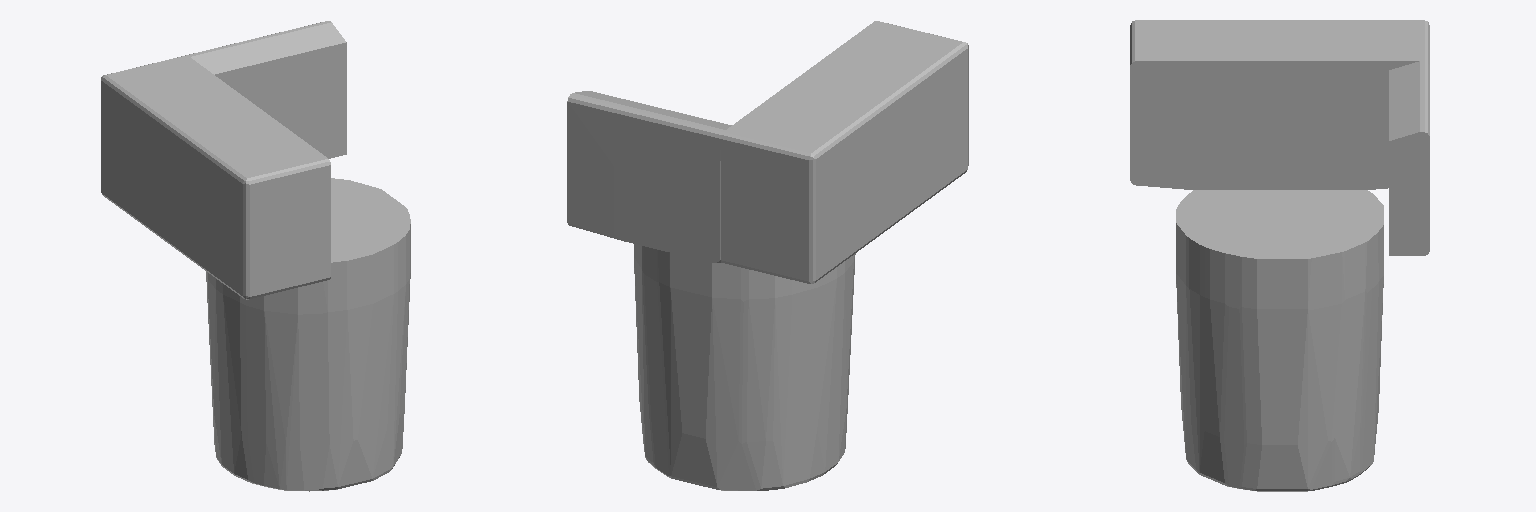
URDF robot description (root):
<robot name="root">
  <link name="link_coacd_convex_piece_0">
    <inertial>
      <origin xyz="0 0 0" rpy="0 0 0"/>
      <inertia ixx="1.04E-02" ixy="-8.09E-04" ixz="-8.68E-03" iyy="1.67E-02" iyz="-2.22E-03" izz="1.31E-02"/>
    </inertial>
    <visual>
      <origin xyz="0 0 0" rpy="0 0 0"/>
      <geometry>
        <mesh filename="coacd_convex_piece_0.obj" scale="1.0000E+00 1.0000E+00 1.0000E+00"/>
      </geometry>
      <material name="">
        <color rgba="7.50E-01 7.50E-01 7.50E-01 1"/>
      </material>
    </visual>
    <collision>
      <origin xyz="0 0 0" rpy="0 0 0"/>
      <geometry>
        <mesh filename="coacd_convex_piece_0.obj" scale="1.0000E+00 1.0000E+00 1.0000E+00"/>
      </geometry>
    </collision>
  </link>
  <link name="link_coacd_convex_piece_1">
    <inertial>
      <origin xyz="0 0 0" rpy="0 0 0"/>
      <inertia ixx="2.92E-02" ixy="2.69E-03" ixz="-2.54E-02" iyy="4.54E-02" iyz="1.48E-03" izz="3.73E-02"/>
    </inertial>
    <visual>
      <origin xyz="0 0 0" rpy="0 0 0"/>
      <geometry>
        <mesh filename="coacd_convex_piece_1.obj" scale="1.0000E+00 1.0000E+00 1.0000E+00"/>
      </geometry>
      <material name="">
        <color rgba="7.50E-01 7.50E-01 7.50E-01 1"/>
      </material>
    </visual>
    <collision>
      <origin xyz="0 0 0" rpy="0 0 0"/>
      <geometry>
        <mesh filename="coacd_convex_piece_1.obj" scale="1.0000E+00 1.0000E+00 1.0000E+00"/>
      </geometry>
    </collision>
  </link>
  <joint name="link_coacd_convex_piece_1_joint" type="fixed">
    <origin xyz="0 0 0" rpy="0 0 0"/>
    <parent link="link_coacd_convex_piece_0"/>
    <child link="link_coacd_convex_piece_1"/>
  </joint>
  <link name="link_coacd_convex_piece_2">
    <inertial>
      <origin xyz="0 0 0" rpy="0 0 0"/>
      <inertia ixx="1.40E-02" ixy="-1.34E-03" ixz="1.48E-02" iyy="3.11E-02" iyz="5.49E-04" izz="2.67E-02"/>
    </inertial>
    <visual>
      <origin xyz="0 0 0" rpy="0 0 0"/>
      <geometry>
        <mesh filename="coacd_convex_piece_2.obj" scale="1.0000E+00 1.0000E+00 1.0000E+00"/>
      </geometry>
      <material name="">
        <color rgba="7.50E-01 7.50E-01 7.50E-01 1"/>
      </material>
    </visual>
    <collision>
      <origin xyz="0 0 0" rpy="0 0 0"/>
      <geometry>
        <mesh filename="coacd_convex_piece_2.obj" scale="1.0000E+00 1.0000E+00 1.0000E+00"/>
      </geometry>
    </collision>
  </link>
  <joint name="link_coacd_convex_piece_2_joint" type="fixed">
    <origin xyz="0 0 0" rpy="0 0 0"/>
    <parent link="link_coacd_convex_piece_1"/>
    <child link="link_coacd_convex_piece_2"/>
  </joint>
  <link name="link_coacd_convex_piece_3">
    <inertial>
      <origin xyz="0 0 0" rpy="0 0 0"/>
      <inertia ixx="1.05E-02" ixy="-1.90E-03" ixz="1.53E-03" iyy="6.08E-03" iyz="5.49E-03" izz="7.13E-03"/>
    </inertial>
    <visual>
      <origin xyz="0 0 0" rpy="0 0 0"/>
      <geometry>
        <mesh filename="coacd_convex_piece_3.obj" scale="1.0000E+00 1.0000E+00 1.0000E+00"/>
      </geometry>
      <material name="">
        <color rgba="7.50E-01 7.50E-01 7.50E-01 1"/>
      </material>
    </visual>
    <collision>
      <origin xyz="0 0 0" rpy="0 0 0"/>
      <geometry>
        <mesh filename="coacd_convex_piece_3.obj" scale="1.0000E+00 1.0000E+00 1.0000E+00"/>
      </geometry>
    </collision>
  </link>
  <joint name="link_coacd_convex_piece_3_joint" type="fixed">
    <origin xyz="0 0 0" rpy="0 0 0"/>
    <parent link="link_coacd_convex_piece_2"/>
    <child link="link_coacd_convex_piece_3"/>
  </joint>
  <link name="link_coacd_convex_piece_4">
    <inertial>
      <origin xyz="0 0 0" rpy="0 0 0"/>
      <inertia ixx="8.67E-03" ixy="4.32E-04" ixz="2.64E-03" iyy="9.69E-03" iyz="-1.23E-03" izz="3.87E-03"/>
    </inertial>
    <visual>
      <origin xyz="0 0 0" rpy="0 0 0"/>
      <geometry>
        <mesh filename="coacd_convex_piece_4.obj" scale="1.0000E+00 1.0000E+00 1.0000E+00"/>
      </geometry>
      <material name="">
        <color rgba="7.50E-01 7.50E-01 7.50E-01 1"/>
      </material>
    </visual>
    <collision>
      <origin xyz="0 0 0" rpy="0 0 0"/>
      <geometry>
        <mesh filename="coacd_convex_piece_4.obj" scale="1.0000E+00 1.0000E+00 1.0000E+00"/>
      </geometry>
    </collision>
  </link>
  <joint name="link_coacd_convex_piece_4_joint" type="fixed">
    <origin xyz="0 0 0" rpy="0 0 0"/>
    <parent link="link_coacd_convex_piece_3"/>
    <child link="link_coacd_convex_piece_4"/>
  </joint>
  <link name="link_coacd_convex_piece_5">
    <inertial>
      <origin xyz="0 0 0" rpy="0 0 0"/>
      <inertia ixx="8.77E-04" ixy="3.72E-04" ixz="1.71E-04" iyy="3.20E-04" iyz="-4.88E-04" izz="9.43E-04"/>
    </inertial>
    <visual>
      <origin xyz="0 0 0" rpy="0 0 0"/>
      <geometry>
        <mesh filename="coacd_convex_piece_5.obj" scale="1.0000E+00 1.0000E+00 1.0000E+00"/>
      </geometry>
      <material name="">
        <color rgba="7.50E-01 7.50E-01 7.50E-01 1"/>
      </material>
    </visual>
    <collision>
      <origin xyz="0 0 0" rpy="0 0 0"/>
      <geometry>
        <mesh filename="coacd_convex_piece_5.obj" scale="1.0000E+00 1.0000E+00 1.0000E+00"/>
      </geometry>
    </collision>
  </link>
  <joint name="link_coacd_convex_piece_5_joint" type="fixed">
    <origin xyz="0 0 0" rpy="0 0 0"/>
    <parent link="link_coacd_convex_piece_4"/>
    <child link="link_coacd_convex_piece_5"/>
  </joint>
  <link name="link_coacd_convex_piece_6">
    <inertial>
      <origin xyz="0 0 0" rpy="0 0 0"/>
      <inertia ixx="3.86E-03" ixy="8.27E-04" ixz="6.67E-04" iyy="2.52E-03" iyz="-2.30E-03" izz="2.50E-03"/>
    </inertial>
    <visual>
      <origin xyz="0 0 0" rpy="0 0 0"/>
      <geometry>
        <mesh filename="coacd_convex_piece_6.obj" scale="1.0000E+00 1.0000E+00 1.0000E+00"/>
      </geometry>
      <material name="">
        <color rgba="7.50E-01 7.50E-01 7.50E-01 1"/>
      </material>
    </visual>
    <collision>
      <origin xyz="0 0 0" rpy="0 0 0"/>
      <geometry>
        <mesh filename="coacd_convex_piece_6.obj" scale="1.0000E+00 1.0000E+00 1.0000E+00"/>
      </geometry>
    </collision>
  </link>
  <joint name="link_coacd_convex_piece_6_joint" type="fixed">
    <origin xyz="0 0 0" rpy="0 0 0"/>
    <parent link="link_coacd_convex_piece_5"/>
    <child link="link_coacd_convex_piece_6"/>
  </joint>
</robot>

--- What the picture shows (computed from the rendered views, not written in the file) ---
3 views of the same robot in one strip: view 1: azimuth 30°, elevation 25°; view 2: azimuth 150°, elevation 25°; view 3: azimuth 270°, elevation 25° (orthographic).
Model root with 7 links and 6 joints (6 fixed), rooted at link_coacd_convex_piece_0, posed all joints at 0.
Visible links, largest first — view 1: link_coacd_convex_piece_0, link_coacd_convex_piece_2, link_coacd_convex_piece_6; view 2: link_coacd_convex_piece_2, link_coacd_convex_piece_0, link_coacd_convex_piece_6; view 3: link_coacd_convex_piece_0, link_coacd_convex_piece_2, link_coacd_convex_piece_6.
Link boxes in pixels (<box>): link_coacd_convex_piece_0: <box>206,178,410,491</box>; link_coacd_convex_piece_2: <box>101,55,330,299</box>; link_coacd_convex_piece_6: <box>188,21,346,158</box>; link_coacd_convex_piece_2: <box>721,21,968,283</box>; link_coacd_convex_piece_0: <box>634,244,855,490</box>; link_coacd_convex_piece_6: <box>567,91,731,262</box>; link_coacd_convex_piece_0: <box>1176,190,1383,491</box>; link_coacd_convex_piece_2: <box>1130,20,1429,189</box>; link_coacd_convex_piece_6: <box>1389,61,1429,255</box>.
Size in the robot's own frame: 0.7603 by 0.8459 by 1.16 metres.
3 mesh visuals loaded from 7 distinct referenced files (3 OBJ); not drawn: 4 (reference not matched to a file when rendering).